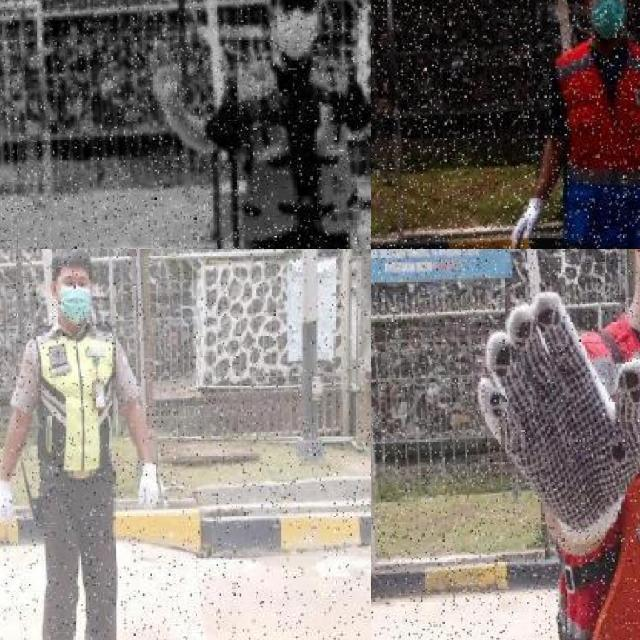apron: (471, 283, 640, 564), (508, 196, 545, 249), (136, 461, 162, 512), (0, 476, 17, 528)
